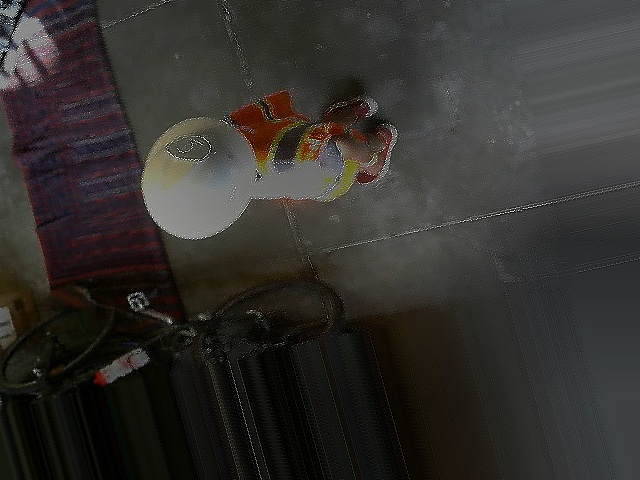two: (162, 131, 214, 166)
